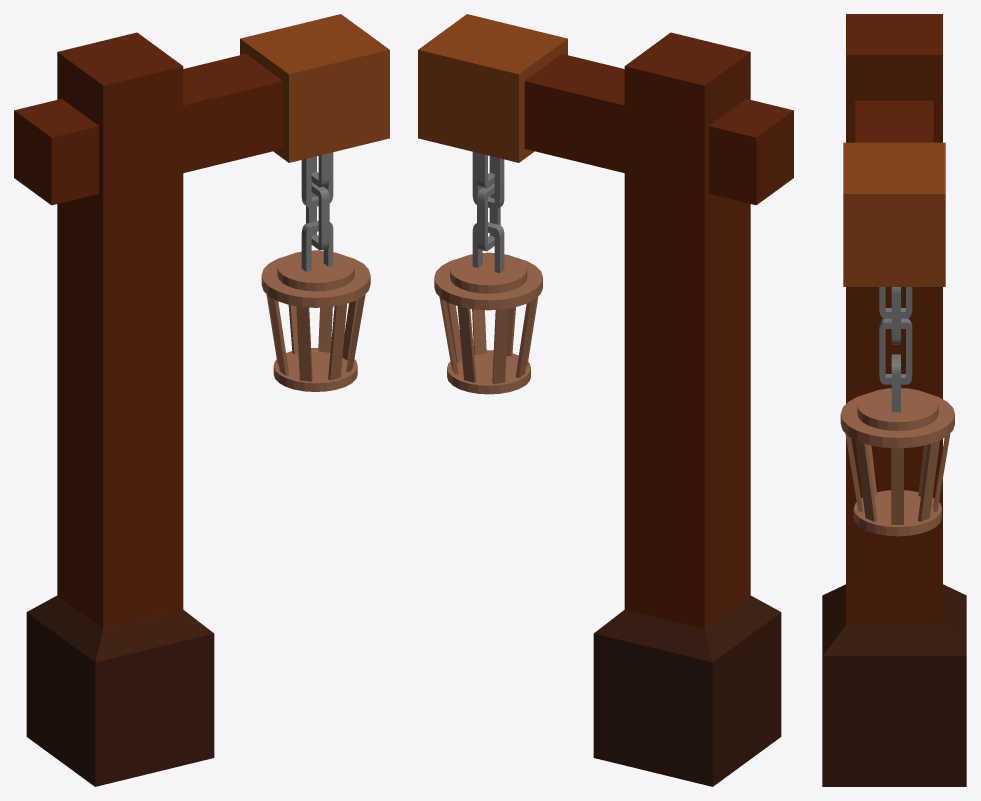
3 views of the same model, side by side, from view 1: azimuth 30°, elevation 25°; view 2: azimuth 150°, elevation 25°; view 3: azimuth 270°, elevation 25° (orthographic). The views are drawn at different scales.
Visible parts, largest first — view 1: Cube.015, Cube.016, Cube.017, Cylinder.010, Cylinder.011, Cube.020, Cube.018, Cube.019, Plane.002, Plane.001, Plane.003, Cube.021; view 2: Cube.015, Cube.016, Cube.017, Cylinder.010, Cylinder.011, Cube.021, Cube.018, Cube.019, Plane.002, Plane.001, Plane.003, Cube.020; view 3: Cube.015, Cube.017, Cylinder.010, Cube.016, Cylinder.011, Cube.021, Cube.020, Plane.002, Cube.019, Cube.018, Plane.001, Plane.003 (+1 smaller).
Part boxes in pixels (x1=…): Cube.015: x1=26, y1=32, x2=214, y2=786; Cube.016: x1=14, y1=54, x2=283, y2=205; Cube.017: x1=240, y1=14, x2=389, y2=162; Cylinder.010: x1=261, y1=250, x2=370, y2=307; Cylinder.011: x1=273, y1=348, x2=357, y2=391; Cube.020: x1=296, y1=306, x2=332, y2=381; Cube.018: x1=288, y1=304, x2=346, y2=380; Cube.019: x1=268, y1=296, x2=358, y2=375; Plane.002: x1=306, y1=182, x2=329, y2=250; Plane.001: x1=301, y1=220, x2=333, y2=271; Plane.003: x1=301, y1=152, x2=333, y2=208; Cube.021: x1=266, y1=294, x2=365, y2=372; Cube.015: x1=593, y1=32, x2=781, y2=786; Cube.016: x1=524, y1=54, x2=793, y2=205; Cube.017: x1=418, y1=14, x2=567, y2=162; Cylinder.010: x1=434, y1=252, x2=542, y2=310; Cylinder.011: x1=447, y1=350, x2=530, y2=394; Cube.021: x1=472, y1=308, x2=508, y2=383; Cube.018: x1=457, y1=306, x2=515, y2=382; Cube.019: x1=446, y1=298, x2=536, y2=377; Plane.002: x1=477, y1=183, x2=500, y2=251; Plane.001: x1=472, y1=222, x2=504, y2=273; Plane.003: x1=472, y1=152, x2=504, y2=209; Cube.020: x1=439, y1=296, x2=538, y2=374; Cube.015: x1=822, y1=14, x2=966, y2=786; Cube.017: x1=843, y1=142, x2=945, y2=286; Cylinder.010: x1=840, y1=388, x2=954, y2=448; Cube.016: x1=855, y1=100, x2=933, y2=142; Cylinder.011: x1=853, y1=490, x2=941, y2=536; Cube.021: x1=855, y1=440, x2=927, y2=521; Cube.020: x1=867, y1=440, x2=939, y2=521; Plane.002: x1=879, y1=318, x2=912, y2=384; Cube.019: x1=891, y1=448, x2=903, y2=524; Cube.018: x1=845, y1=433, x2=950, y2=511; Plane.001: x1=891, y1=354, x2=900, y2=412; Plane.003: x1=891, y1=287, x2=900, y2=344.
Size of the model in its own units: 902 by 1784 by 323.
